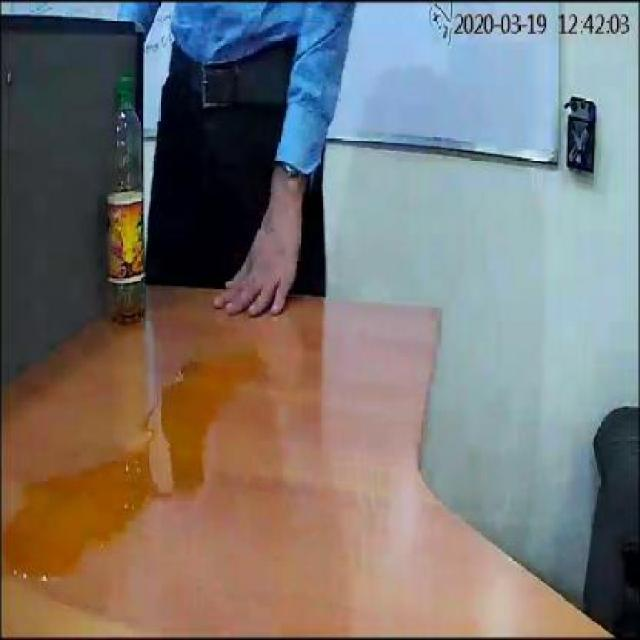spill: (2, 334, 268, 578)
